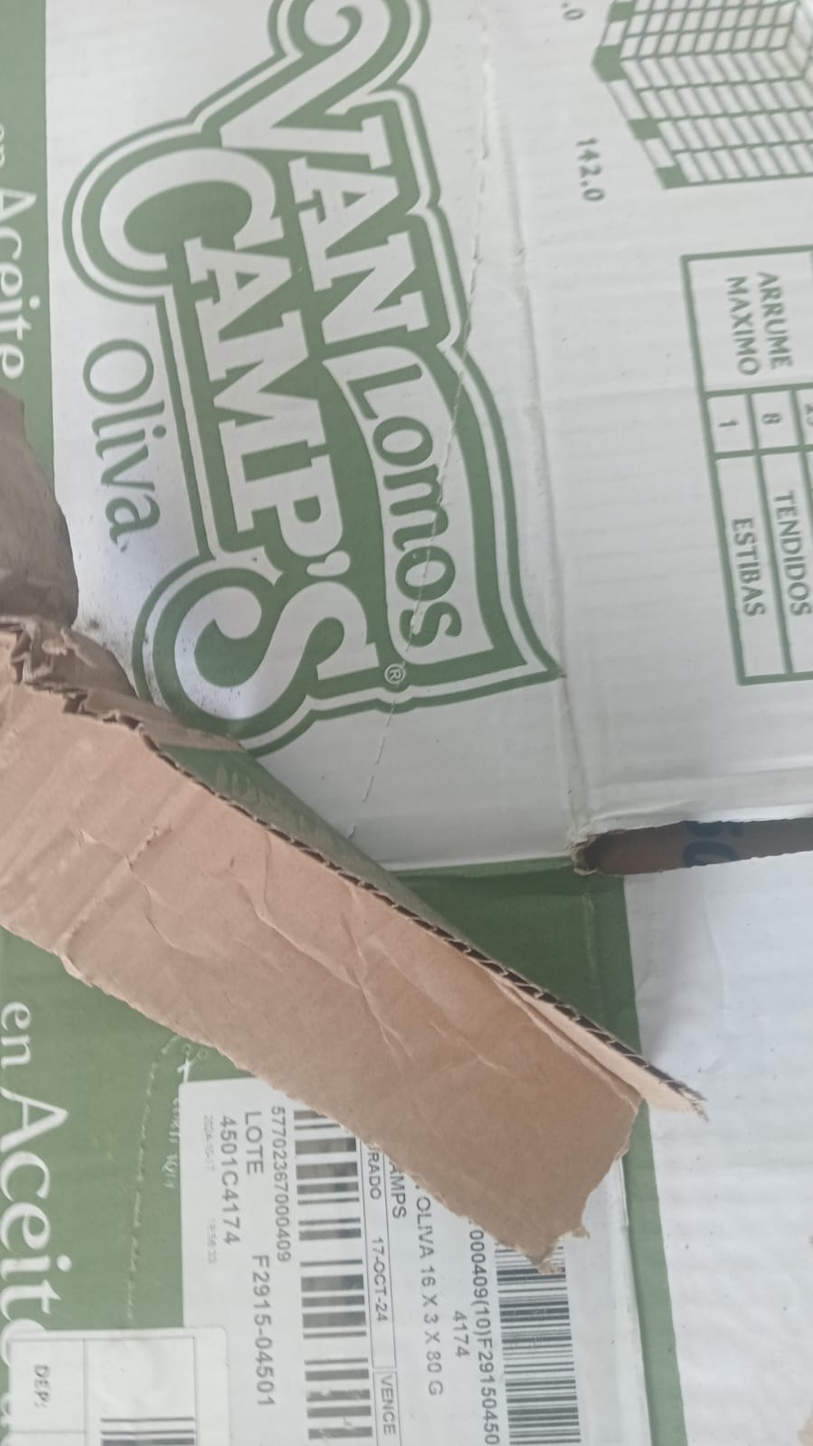Carton: (0, 619, 704, 1281)
